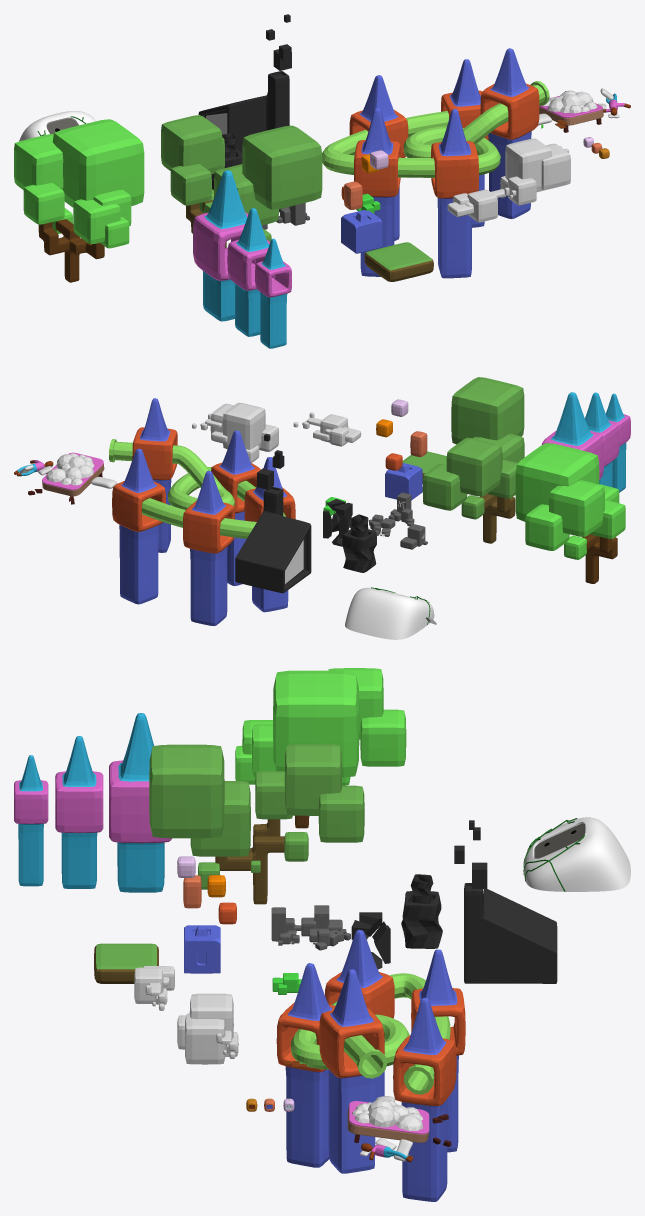
Rendered from asset_6.fbx.
3 views of the same model, one above another, from view 1: azimuth 30°, elevation 25°; view 2: azimuth 150°, elevation 25°; view 3: azimuth 270°, elevation 25° (orthographic). The views are drawn at different scales.
Parts seen in each view (by area): view 1: TREE.001, TREE, Cube.006, BezierCurve.002, Cube.017, Cube.018, Cube.014, CLOUD, Cube, Cube.011, GROUND, Cube.016 (+9 smaller); view 2: TREE, TREE.001, Cube.016, Cube.011, Cube, Cube.006, BezierCurve.002, Cube.021, Cube.018, CLOUD, Cube.017, Cube.014 (+10 smaller); view 3: TREE, Cube.006, TREE.001, Cube, Cube.016, Cube.018, Cube.017, Cube.021, BezierCurve.002, CLOUD, Cube.011, Cube.014 (+9 smaller).
Part boxes in pixels (box(x1,y1,x2,y2)): TREE.001: box(14, 119, 144, 282); TREE: box(161, 115, 322, 248); Cube.006: box(193, 170, 291, 348); BezierCurve.002: box(322, 81, 549, 177); Cube.017: box(431, 109, 478, 278); Cube.018: box(480, 48, 539, 218); Cube.014: box(354, 108, 400, 276); CLOUD: box(500, 138, 570, 205); Cube: box(198, 71, 289, 152); Cube.011: box(349, 75, 408, 240); GROUND: box(364, 242, 433, 281); Cube.016: box(441, 59, 488, 227); TREE: box(422, 377, 524, 543); TREE.001: box(515, 443, 625, 583); Cube.016: box(112, 448, 166, 604); Cube.011: box(183, 470, 234, 625); Cube: box(235, 486, 311, 593); Cube.006: box(542, 392, 630, 492); BezierCurve.002: box(109, 439, 285, 538); Cube.021: box(345, 587, 436, 639); Cube.018: box(132, 398, 177, 552); CLOUD: box(192, 402, 278, 462); Cube.017: box(211, 430, 260, 585); Cube.014: box(244, 457, 295, 612); TREE: box(149, 744, 364, 904); Cube.006: box(14, 713, 172, 892); TREE.001: box(235, 668, 406, 828); Cube: box(464, 883, 557, 983); Cube.016: box(393, 997, 456, 1201); Cube.018: box(319, 969, 384, 1173); Cube.017: box(276, 963, 335, 1167); Cube.021: box(524, 817, 630, 891); BezierCurve.002: box(291, 973, 450, 1094); CLOUD: box(177, 993, 238, 1064); Cube.011: box(411, 949, 465, 1152); Cube.014: box(325, 929, 394, 1100).
Bounding box in the file's own units: 784 × 279 × 558.
